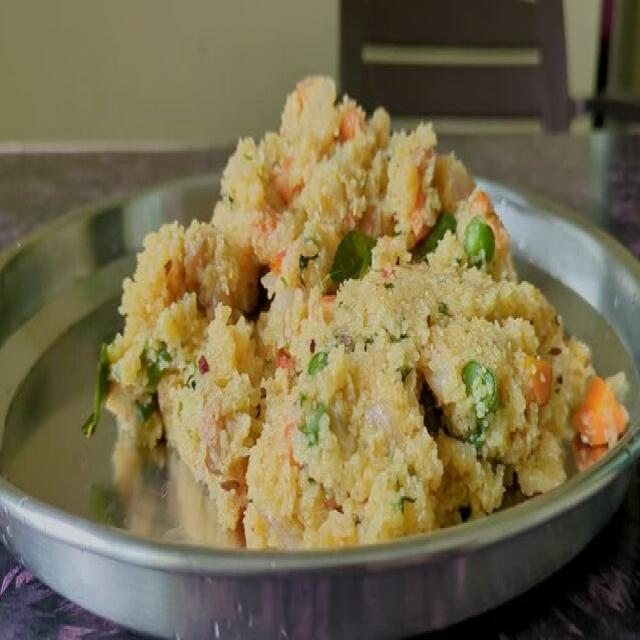UPMA: (106, 76, 628, 548)
